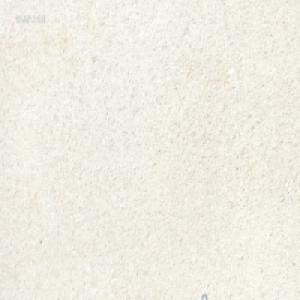Washer: (201, 292, 207, 300)
